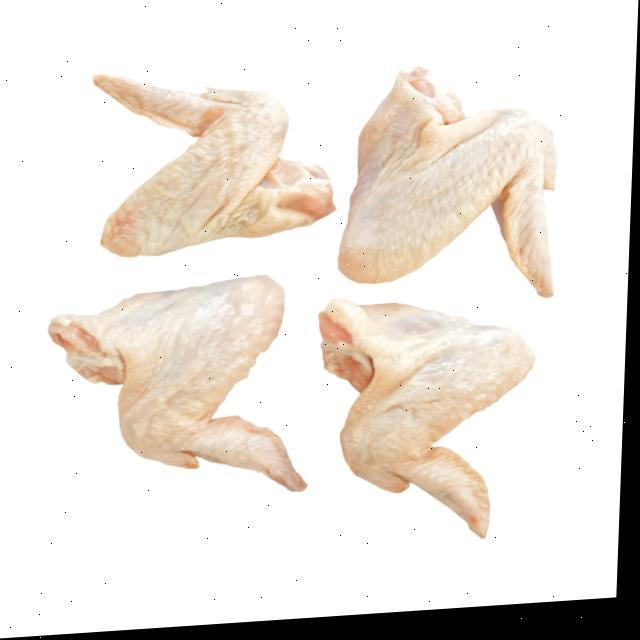wing: (46, 278, 326, 516), (304, 295, 544, 562), (65, 49, 338, 269), (334, 63, 576, 311)
